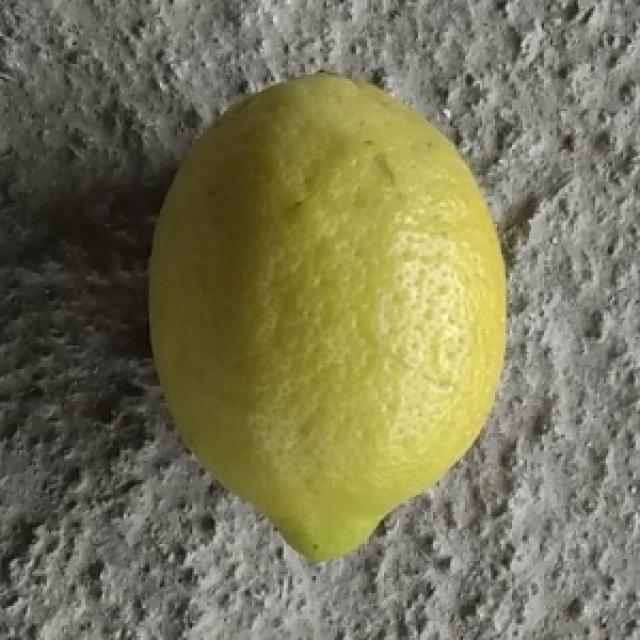Ripe: (135, 62, 510, 567)
